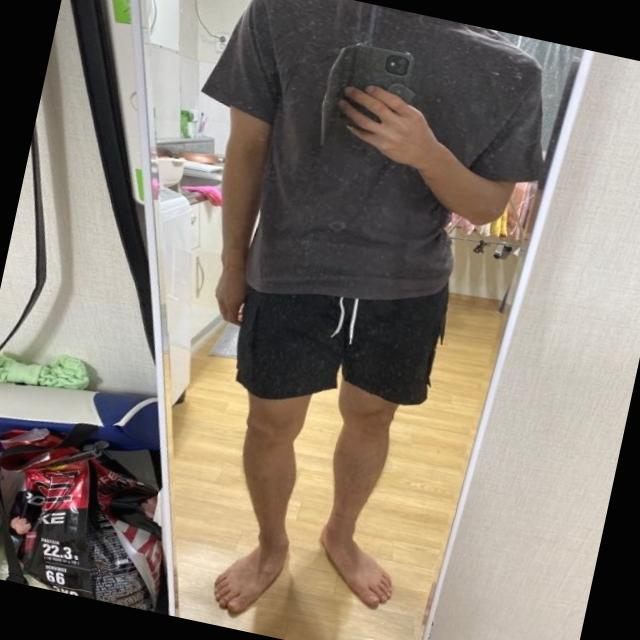shortpants: (222, 247, 454, 432)
shortsleeve: (163, 0, 574, 345)
